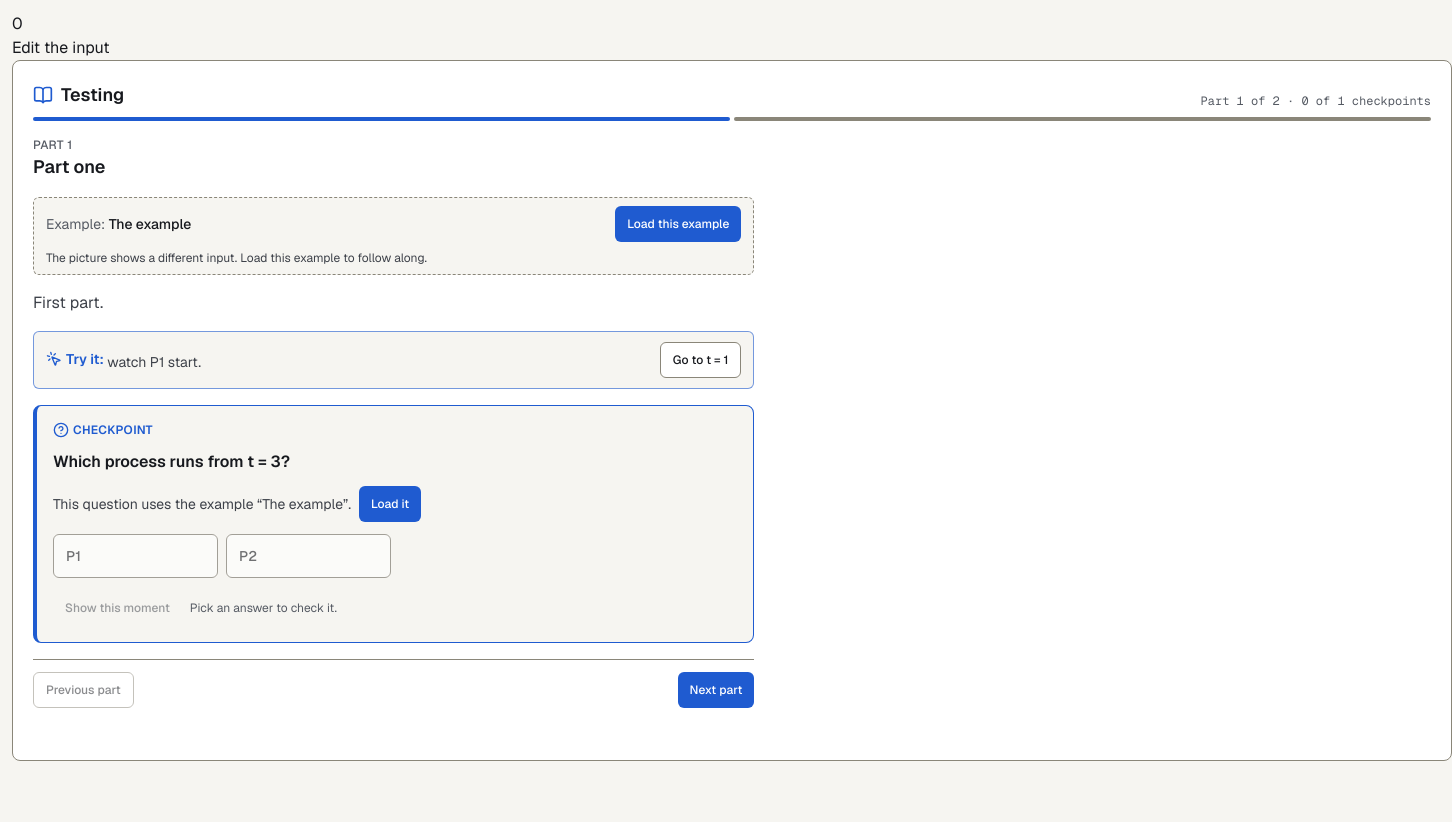
Scenario: Walkthrough › shows one part at a time and moves between them
Expected: the heading "Part 1 Part one" is shown, [33,136,106,178]
Expected: the heading "Part two" is not shown
Click the button "Next part" at (716,690), box [678,672,754,708]
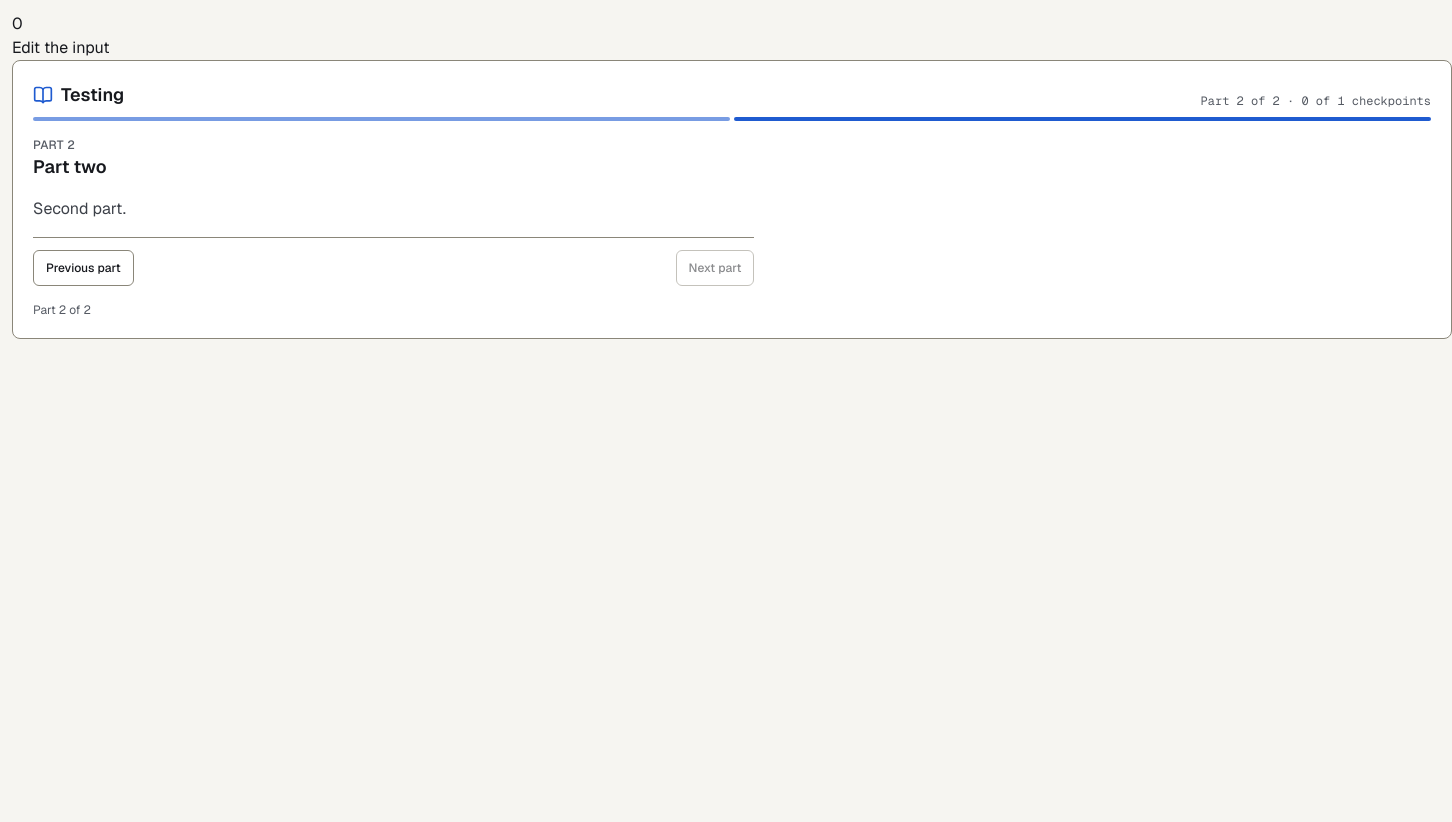
Now the heading "Part 2 Part two" is shown, box [33,136,106,178]
Now the message reads "Part 2 of 2", box [33,302,91,318]
Now the text "Part 2 of 2 · 0 of 1 checkpoints" is shown, box [1200,93,1431,109]
